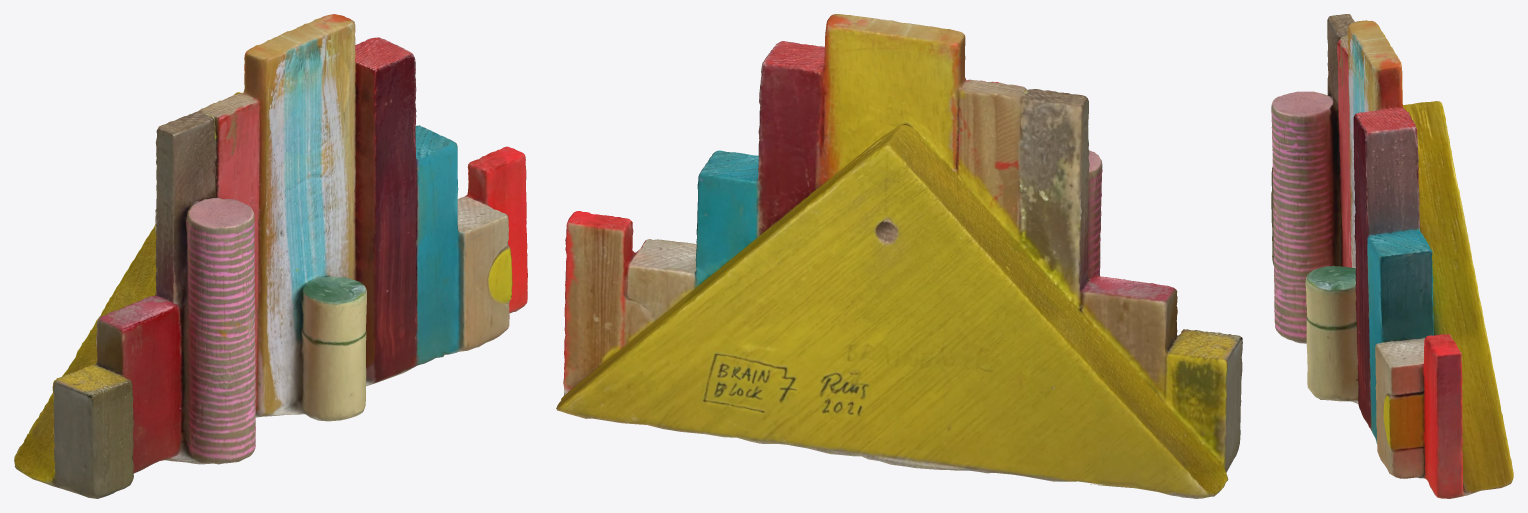
File: Brainblock_07.glb
The picture shows the model from 3 angles, left to right: view 1: azimuth 30°, elevation 25°; view 2: azimuth 150°, elevation 25°; view 3: azimuth 270°, elevation 25°; orthographic projection. The views are drawn at different scales.
Parts seen in each view (by area): view 1: Geom; view 2: Geom; view 3: Geom.
Part boxes in pixels (left/top/right/bottom): Geom: left=14, top=14, right=527, bottom=498; Geom: left=556, top=14, right=1242, bottom=498; Geom: left=1271, top=14, right=1513, bottom=498.
Size of the model in its own units: 0.1946 by 0.1259 by 0.0793.
1 material, 1 textured.
